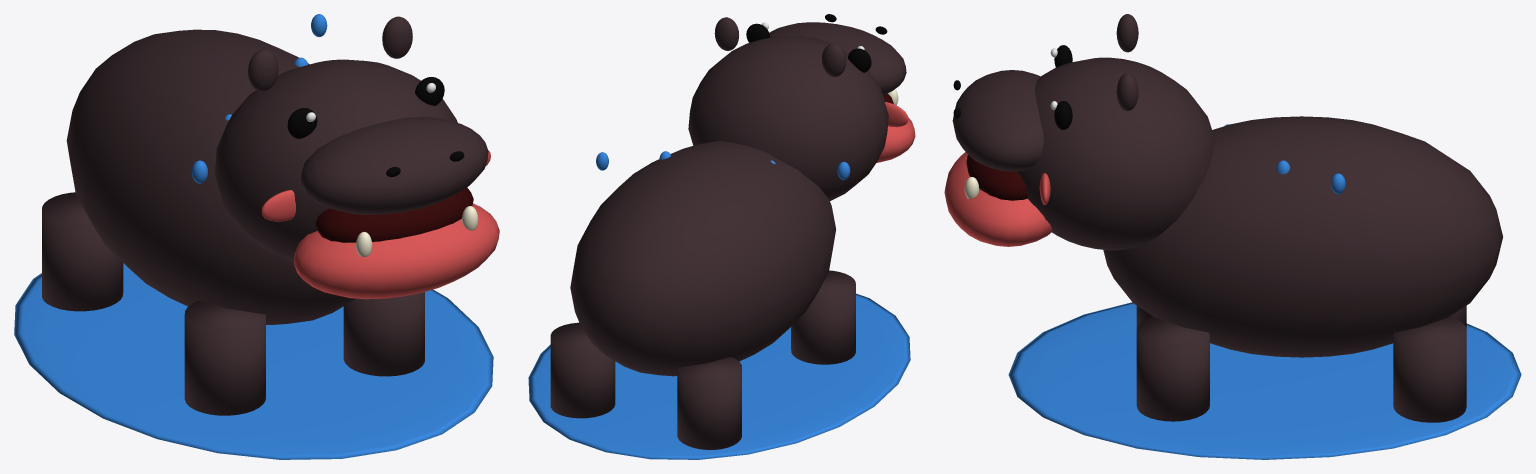
File: BabyHippo.fbx
3 renders of one model, left to right at view 1: azimuth 30°, elevation 25°; view 2: azimuth 150°, elevation 25°; view 3: azimuth 270°, elevation 25°, orthographic. The views are drawn at different scales.
Visible parts, largest first — view 1: BabyHippo; view 2: BabyHippo; view 3: BabyHippo.
Part boxes in pixels (x1,y1,x2,y2): BabyHippo: (14, 14, 499, 459); BabyHippo: (528, 14, 915, 459); BabyHippo: (944, 14, 1521, 459).
Bounding box in the file's own units: 2.2 × 2.02 × 3.15.
Materials: 1 (1 with a texture image).
